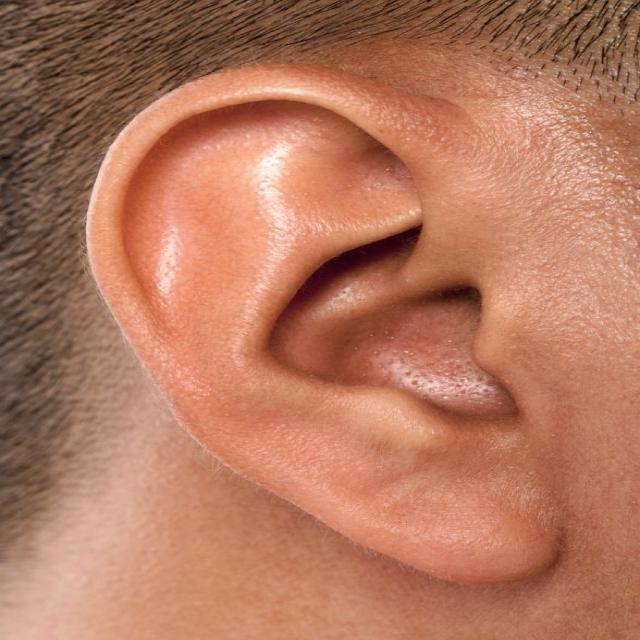earlobe: (364, 396, 552, 589)
wholeear: (86, 62, 555, 588)
